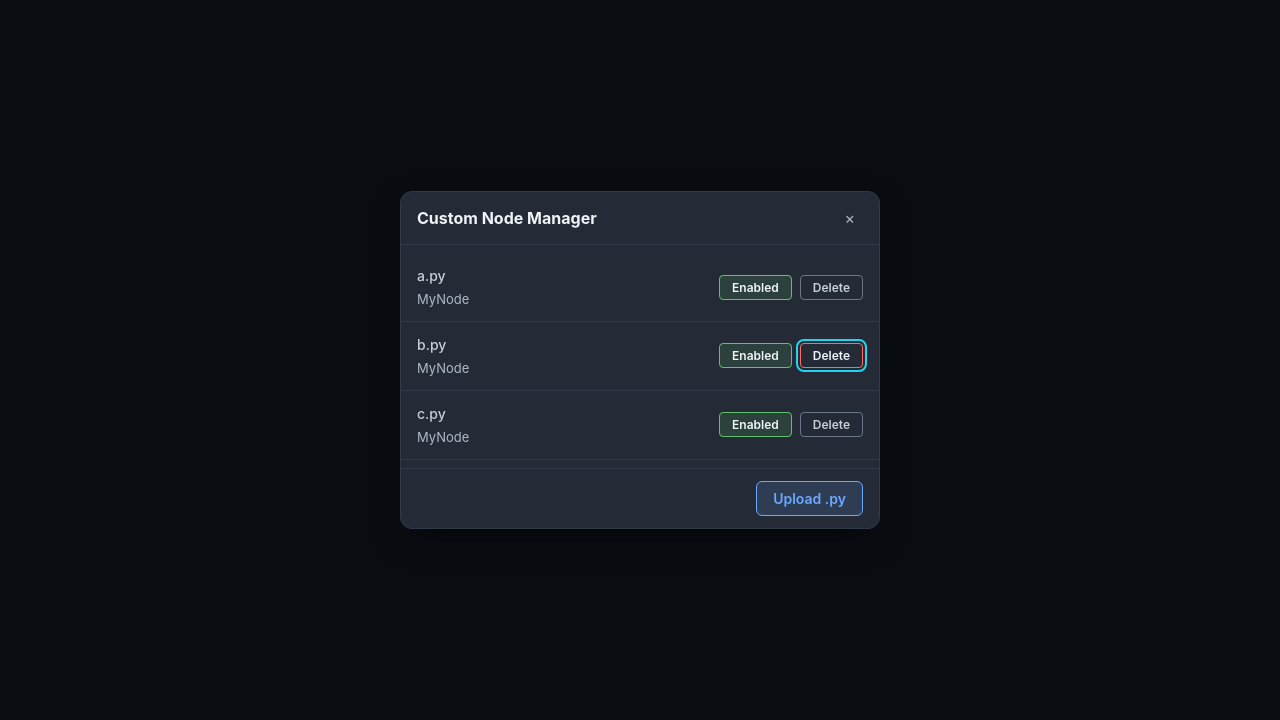
it: CustomNodeManager focus and re-reads › after a Delete, puts focus on the next row's Delete
Expected: the text "b.py" is shown, [417, 336, 446, 353]
What coordinates should you click on to do the following:
click the button "Delete" in the row of "b.py"
I would click on:
 (831, 356)
Its box is [800, 344, 863, 368].
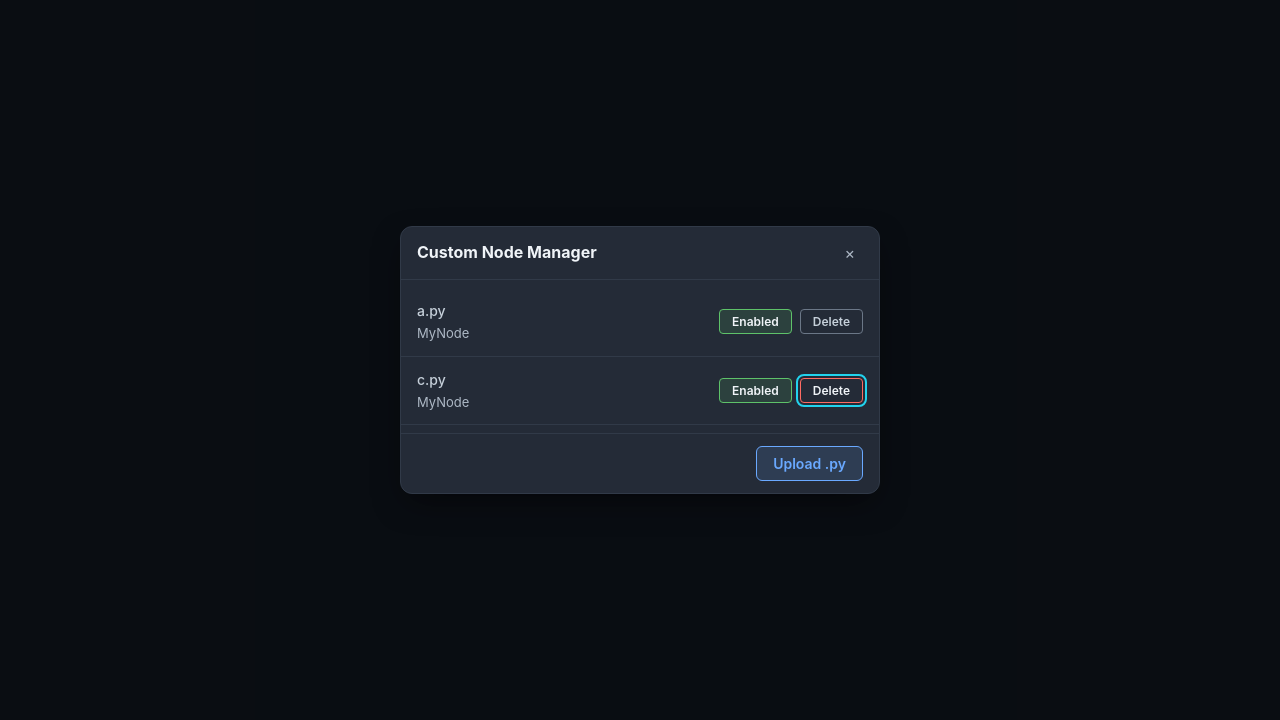
Expected: the text "b.py" is gone
